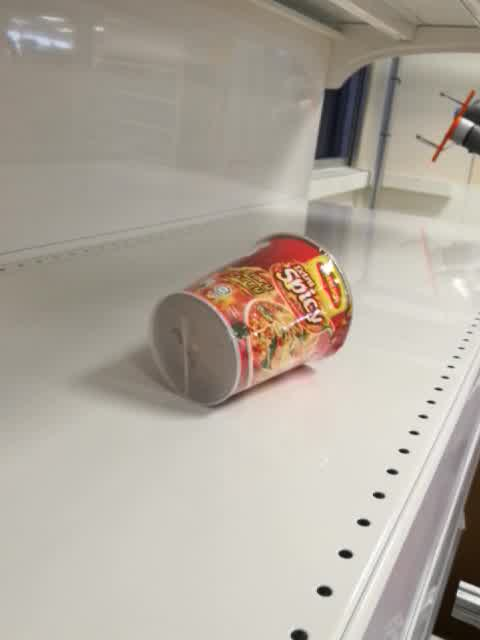maggi: (147, 233, 353, 410)
